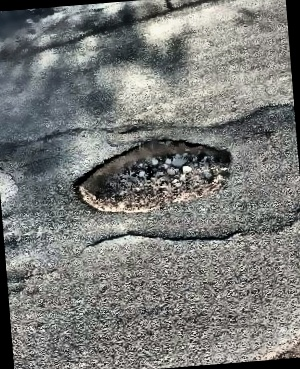pothole: (66, 128, 237, 217)
